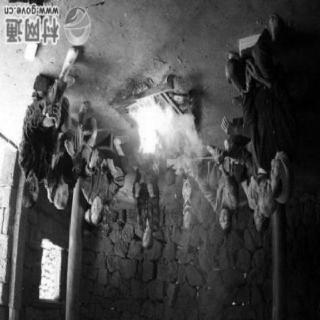Smoke: (181, 120, 201, 162)
